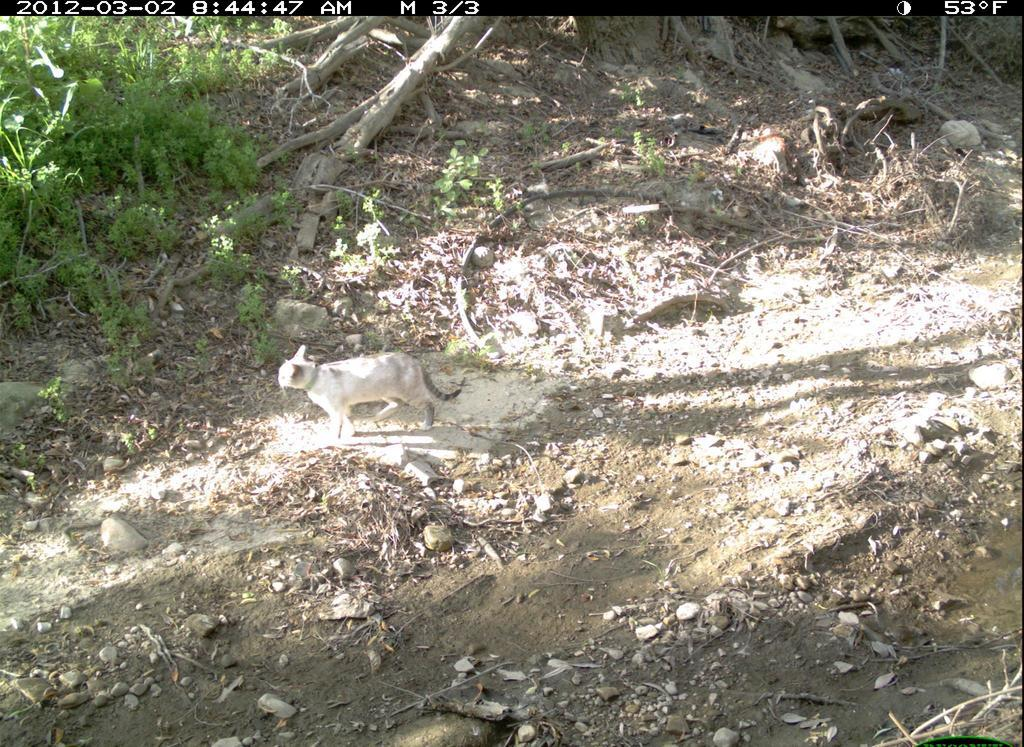cat: (274, 335, 479, 449)
